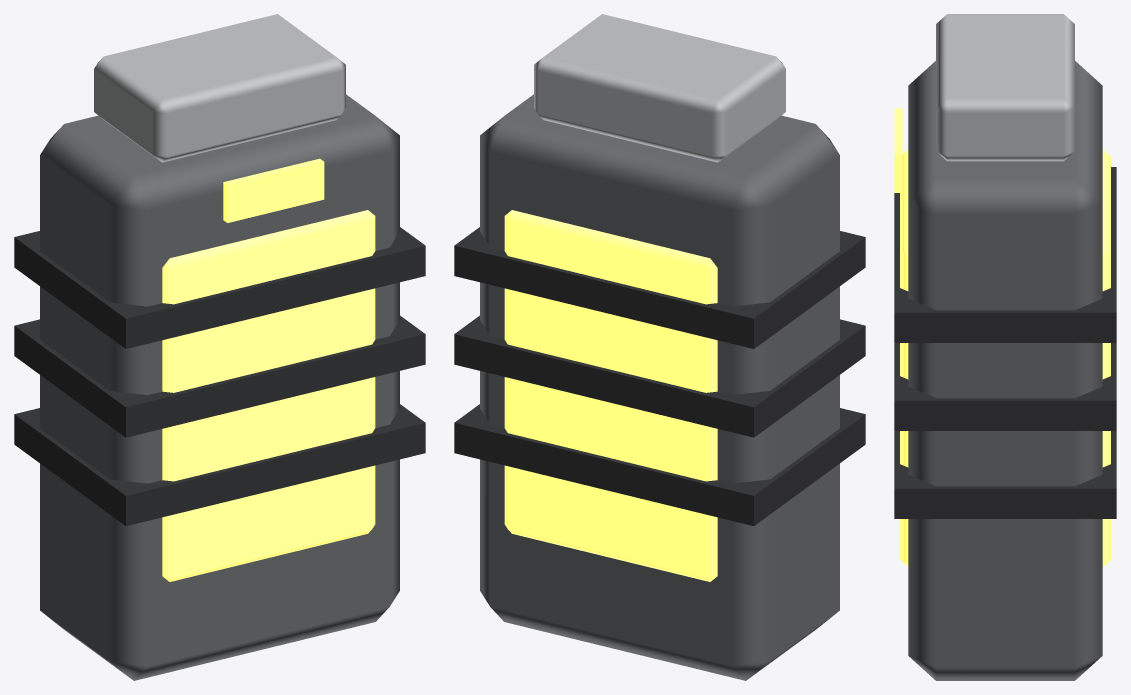
Rendered from ammo_rifle.glb.
3 renders of one model, left to right at view 1: azimuth 30°, elevation 25°; view 2: azimuth 150°, elevation 25°; view 3: azimuth 270°, elevation 25°, orthographic.
Parts seen in each view (by area): view 1: ammo_rifle; view 2: ammo_rifle; view 3: ammo_rifle.
Boxes of the visible parts, left/top/right/bottom form: ammo_rifle: left=14, top=14, right=425, bottom=680; ammo_rifle: left=454, top=14, right=865, bottom=680; ammo_rifle: left=894, top=14, right=1116, bottom=680.
Bounding box in the file's own units: 0.124 × 0.225 × 0.08.
